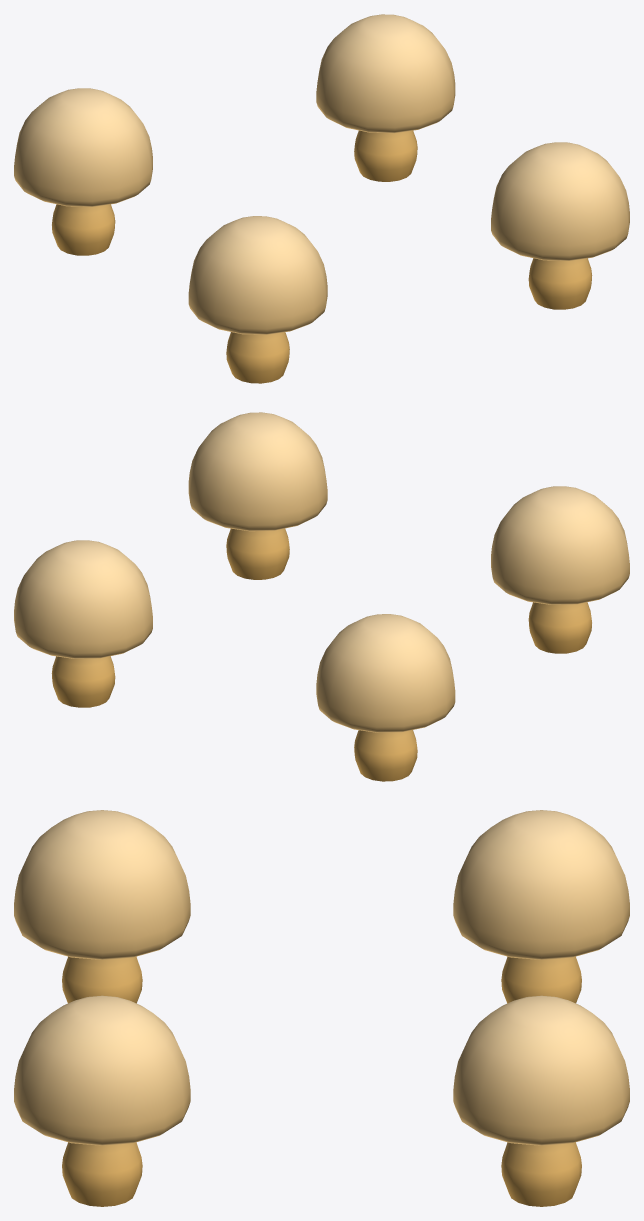
File: Farm_Crop_Mashroom_02_Step_02.fbx
3 views of the same model, one above another, from view 1: azimuth 30°, elevation 25°; view 2: azimuth 150°, elevation 25°; view 3: azimuth 270°, elevation 25° (orthographic). The views are drawn at different scales.
Visible parts, largest first — view 1: Farm_Crop_Mashroom_02_Step_02; view 2: Farm_Crop_Mashroom_02_Step_02; view 3: Farm_Crop_Mashroom_02_Step_02.
Boxes of the visible parts, box(x1,y1,x2,y2) form: Farm_Crop_Mashroom_02_Step_02: box(14, 14, 629, 383); Farm_Crop_Mashroom_02_Step_02: box(14, 412, 629, 781); Farm_Crop_Mashroom_02_Step_02: box(14, 810, 629, 1206).
Bounding box in the file's own units: 140 × 47.14 × 140.
